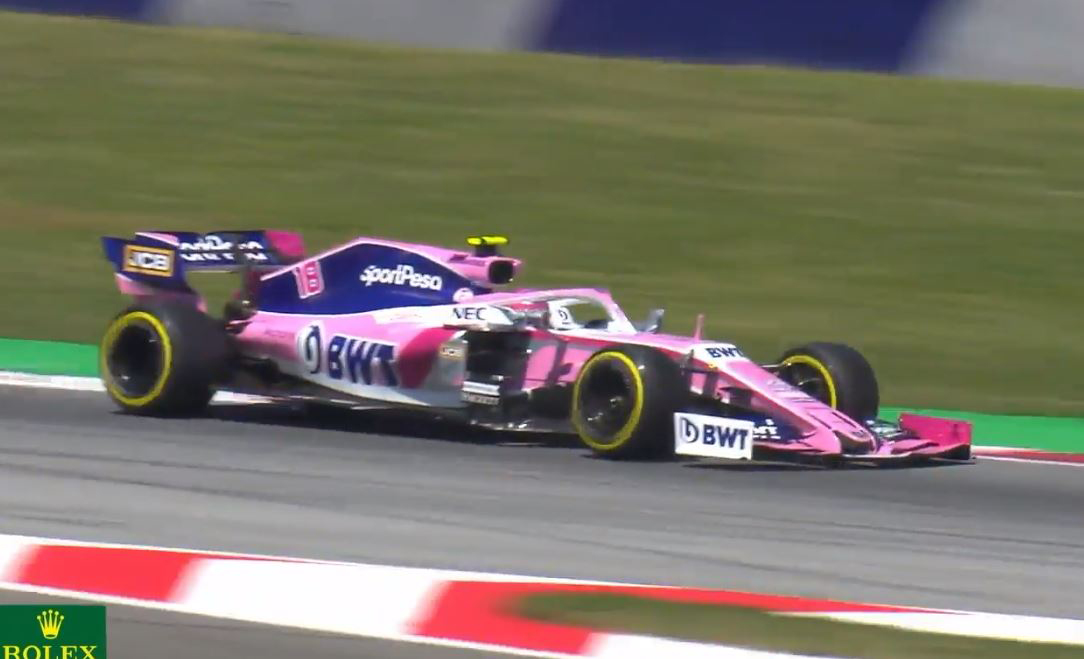F1 Car: (89, 222, 981, 475)
